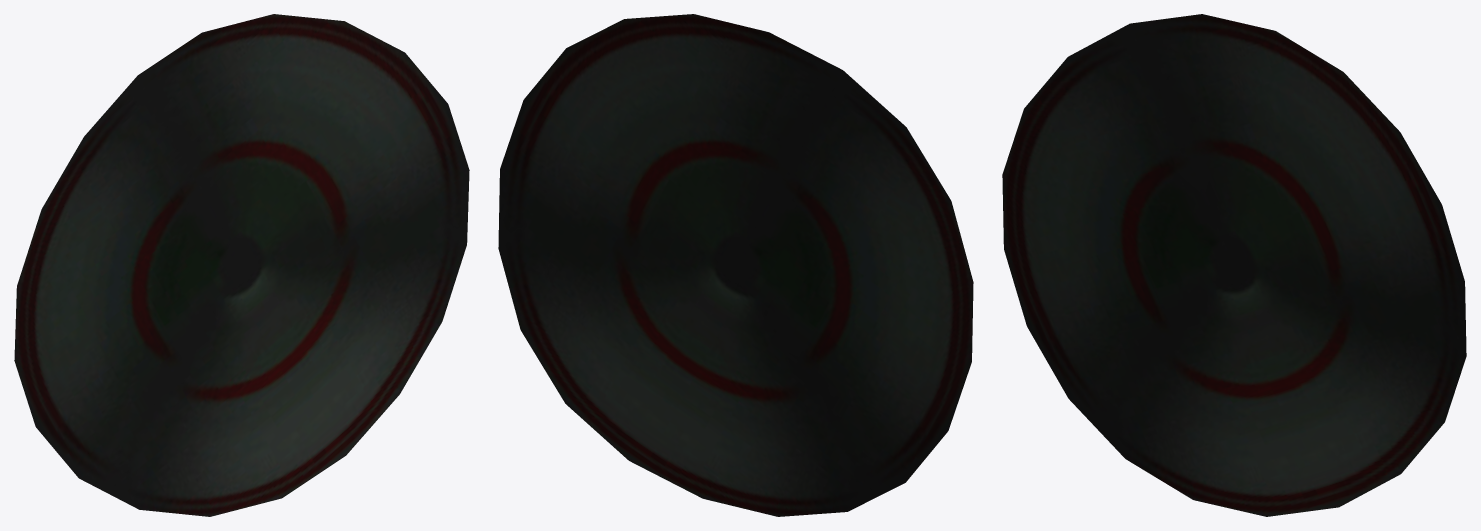
File: Propeller.obj
3 renders of one model, left to right at view 1: azimuth 30°, elevation 25°; view 2: azimuth 150°, elevation 25°; view 3: azimuth 330°, elevation 25°, orthographic. The views are drawn at different scales.
Visible parts, largest first — view 1: A6M_ZERO_A6M_ZERO.015; view 2: A6M_ZERO_A6M_ZERO.015; view 3: A6M_ZERO_A6M_ZERO.015.
Part boxes in pixels (box(x1,y1,x2,y2)): A6M_ZERO_A6M_ZERO.015: box(14, 14, 469, 516); A6M_ZERO_A6M_ZERO.015: box(498, 14, 973, 516); A6M_ZERO_A6M_ZERO.015: box(1002, 14, 1466, 516).
Size of the model in its own units: 4 by 4 by 0.1393.
